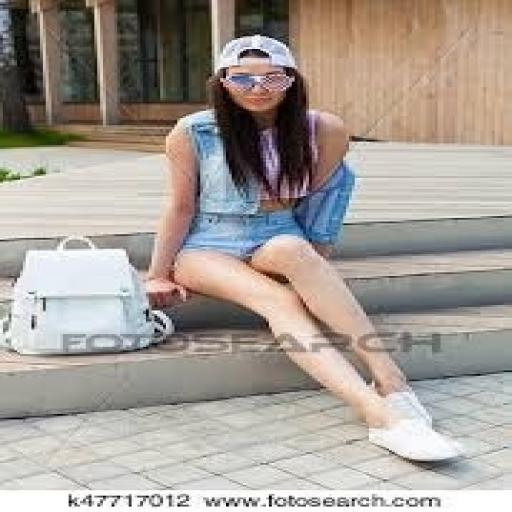sitting: (140, 33, 466, 463)
